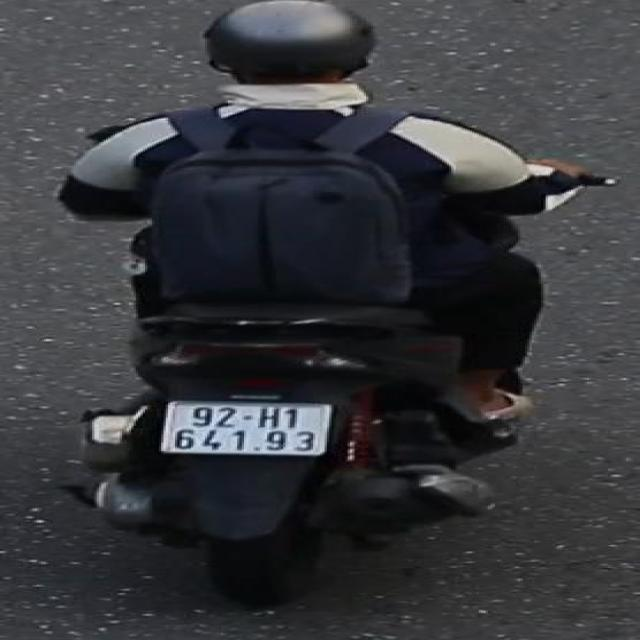LP: (161, 394, 343, 462)
helmet: (197, 0, 383, 123)
